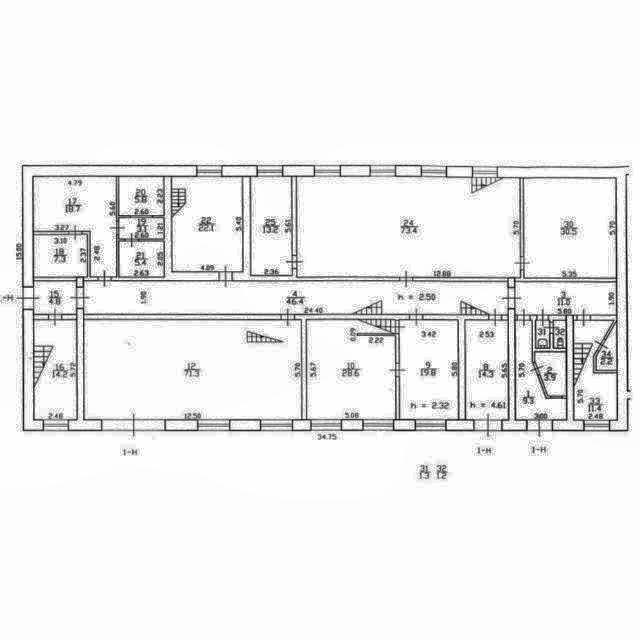room: (297, 177, 520, 277), (84, 319, 302, 419), (84, 281, 507, 316), (525, 178, 617, 277), (306, 320, 396, 419), (33, 176, 117, 277), (171, 176, 243, 271), (400, 319, 459, 419), (515, 320, 566, 421), (573, 320, 618, 421), (33, 320, 77, 420), (465, 320, 508, 419), (250, 176, 292, 276), (515, 283, 617, 315), (34, 234, 87, 277), (119, 177, 164, 216), (119, 242, 164, 276), (534, 352, 566, 396), (34, 281, 76, 314), (596, 322, 617, 371), (119, 218, 164, 239), (536, 320, 549, 348), (553, 320, 566, 348)
